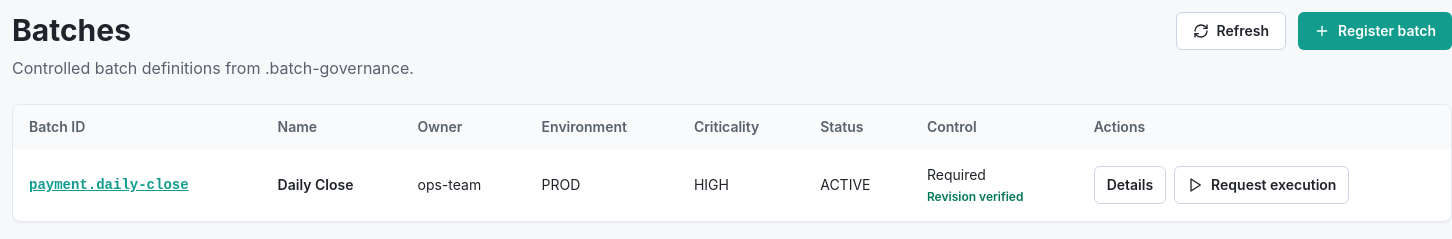
Test case: BatchListPage › reloads the batch list when Refresh is selected
Expected: the text "Daily Close" is shown, [262,149,402,221]
Click the button "Refresh": x=1231, y=31 [1176,12,1286,50]
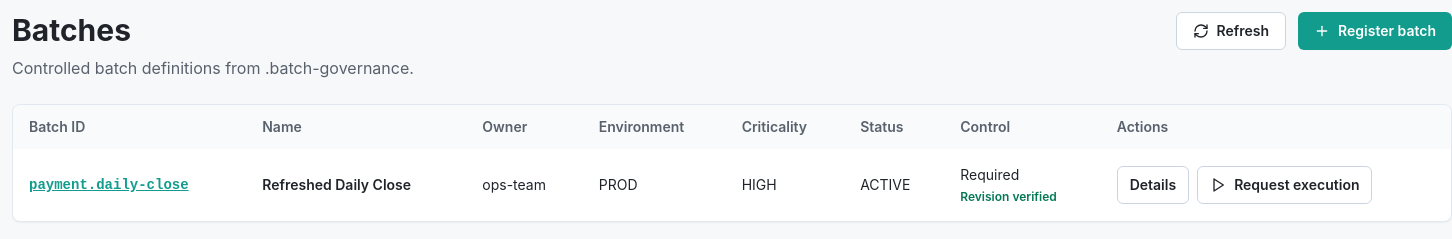
Expected: the text "Refreshed Daily Close" is shown, [246,149,466,221]
